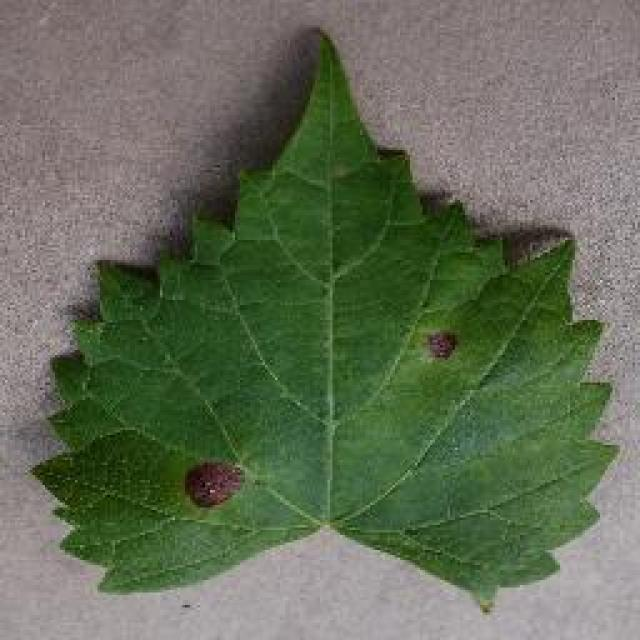Grape___Black_rot: (20, 34, 626, 625)
